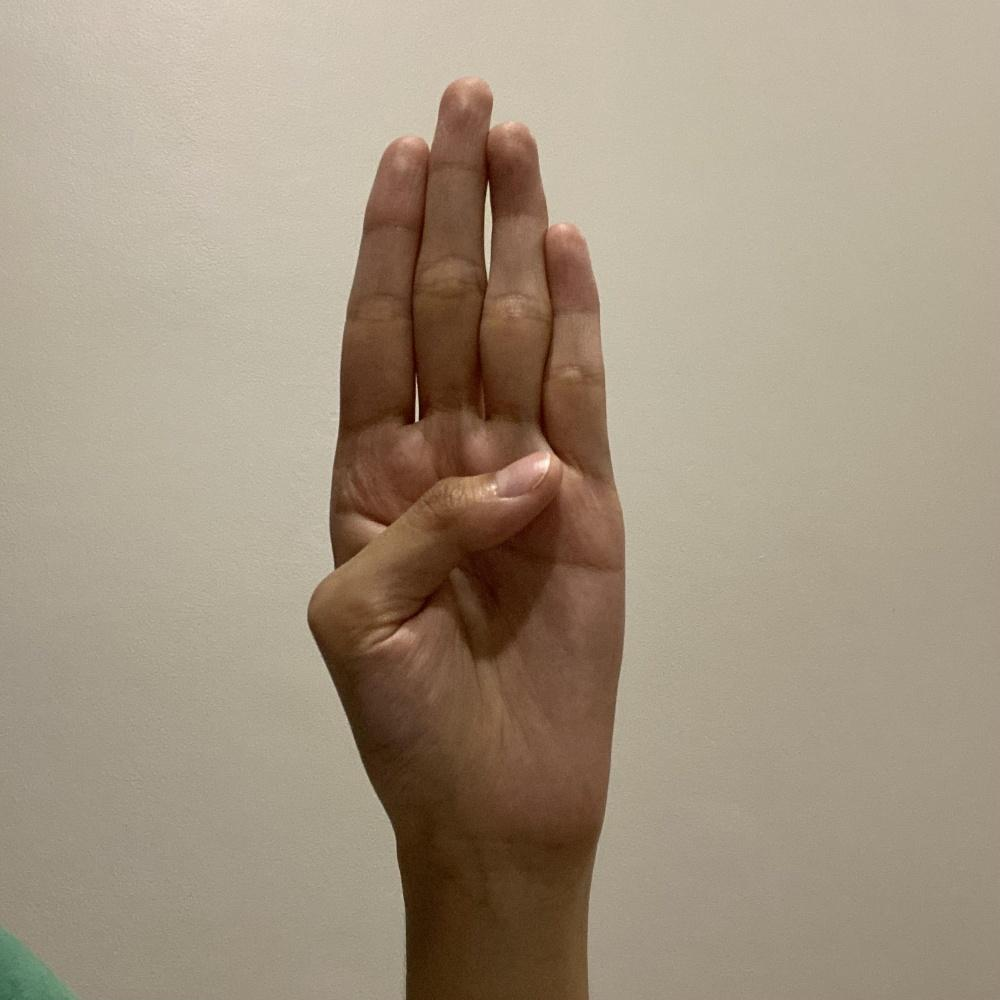b: (304, 69, 629, 861)
